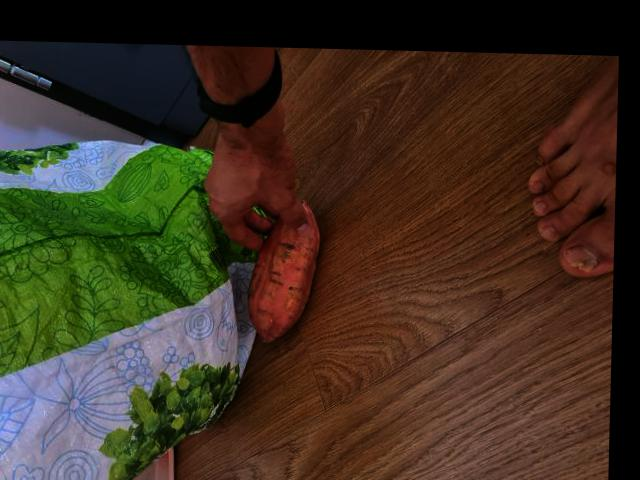sweet_potato: (246, 200, 321, 347)
